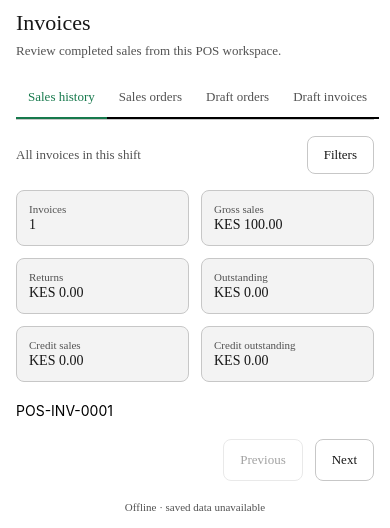
Test: PosInvoicesScreen › loads held invoices only after the held tab is selected
What coordinates should you click on to do the following:
click the tab "Draft invoices"
I would click on:
 (330, 98)
Its box is [281,77,379,119].
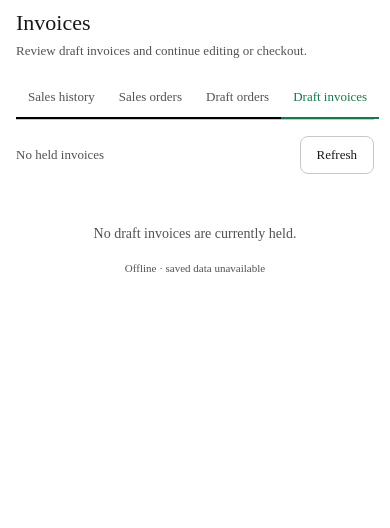
Expected: the text "No draft invoices are currently held." is shown, [94,226,296,241]
